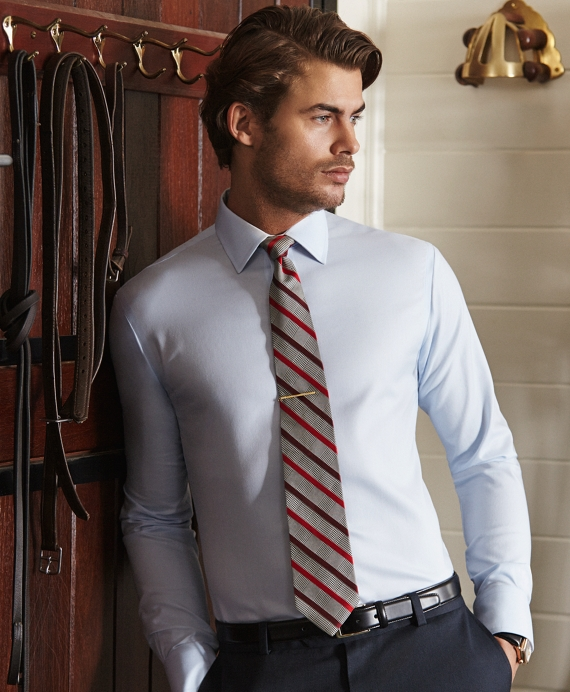F_belt: (214, 585, 468, 639)
F_dress pants: (94, 204, 546, 642)
F_tie: (257, 230, 380, 629)
